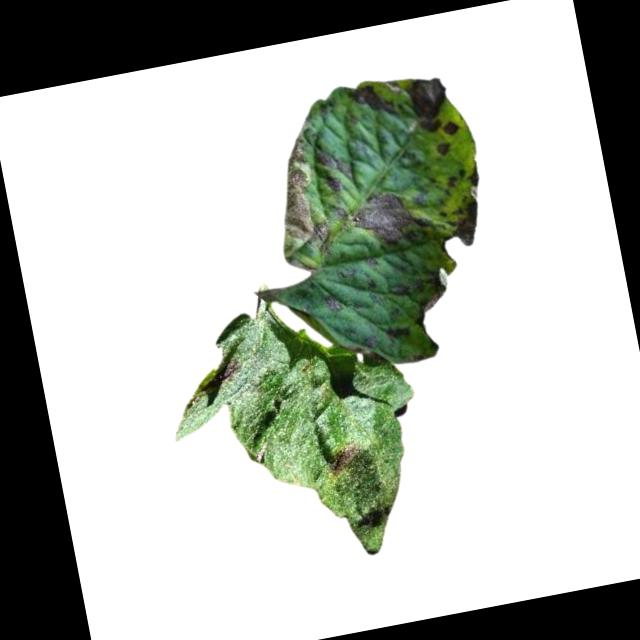Early_blight: (261, 129, 334, 263), (343, 184, 431, 257), (400, 75, 453, 138), (438, 191, 485, 250), (344, 78, 398, 126), (316, 142, 356, 196), (320, 440, 364, 482), (446, 163, 484, 193), (216, 356, 243, 385), (383, 322, 413, 344), (319, 292, 341, 316), (440, 120, 459, 139), (434, 140, 452, 159)
